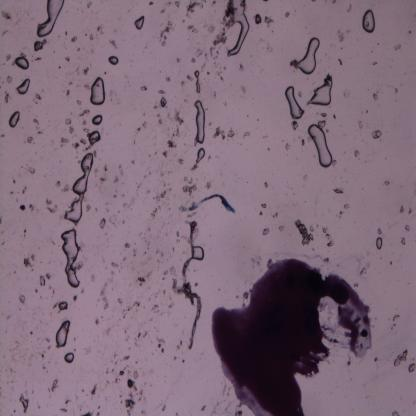Air bubble: (64, 153, 93, 223), (228, 1, 250, 57), (61, 228, 80, 288), (36, 1, 66, 39), (309, 124, 333, 168), (295, 37, 320, 74), (306, 76, 333, 106), (285, 85, 304, 120), (194, 99, 205, 144), (55, 319, 71, 348), (362, 10, 376, 34), (17, 77, 30, 95), (15, 56, 30, 70), (9, 110, 20, 128), (195, 147, 206, 164), (89, 130, 100, 146), (193, 244, 204, 260), (193, 70, 200, 94), (134, 15, 145, 30), (107, 54, 120, 66), (92, 114, 102, 126), (376, 236, 383, 251), (66, 351, 74, 364)
Background material: (294, 218, 314, 246), (201, 45, 223, 70), (90, 76, 106, 106), (120, 300, 140, 320), (184, 0, 204, 18), (212, 27, 228, 48), (321, 224, 335, 247), (392, 349, 408, 369), (223, 1, 234, 28), (158, 26, 170, 48), (149, 206, 164, 222), (18, 392, 29, 413), (33, 38, 48, 53), (260, 36, 274, 52), (102, 281, 109, 312), (137, 386, 148, 404), (212, 127, 226, 141), (124, 398, 136, 414), (46, 198, 58, 214), (126, 379, 137, 395), (173, 110, 184, 126), (183, 184, 197, 196), (156, 338, 166, 354), (336, 29, 346, 45), (161, 268, 178, 277), (391, 314, 401, 329), (154, 190, 166, 202), (135, 122, 147, 134), (50, 378, 59, 394), (342, 88, 353, 101), (264, 14, 275, 26), (1, 10, 12, 22), (96, 23, 106, 36), (23, 256, 32, 270), (167, 139, 178, 150), (136, 275, 146, 287), (371, 130, 383, 140), (38, 273, 46, 288), (158, 96, 168, 108), (332, 186, 346, 194), (187, 24, 198, 34), (226, 128, 236, 139), (104, 325, 115, 335), (78, 108, 90, 117), (142, 238, 151, 250), (239, 83, 247, 96), (59, 184, 72, 192), (122, 202, 132, 212), (194, 48, 204, 58), (151, 304, 161, 314), (407, 362, 416, 373), (73, 262, 84, 271), (290, 59, 299, 70), (51, 300, 60, 311), (137, 330, 148, 339), (58, 300, 69, 309), (135, 180, 142, 194), (45, 336, 52, 350), (117, 162, 124, 176), (353, 148, 361, 160), (253, 13, 261, 25), (90, 384, 98, 396), (292, 119, 299, 132), (110, 260, 120, 269), (109, 39, 118, 49), (317, 119, 327, 128), (112, 174, 121, 184), (241, 291, 250, 301), (216, 71, 224, 82), (174, 126, 182, 137), (189, 164, 200, 172), (161, 150, 169, 161), (60, 137, 71, 145), (84, 343, 92, 354), (19, 293, 26, 305), (132, 369, 139, 381), (71, 141, 80, 150), (336, 210, 345, 219), (262, 227, 270, 237), (372, 92, 380, 102), (205, 180, 213, 190), (182, 178, 192, 186), (186, 73, 194, 83), (5, 74, 13, 84), (174, 231, 180, 244), (83, 65, 90, 76), (99, 219, 106, 230), (110, 214, 117, 225), (206, 68, 212, 80), (104, 201, 110, 213), (26, 135, 34, 144), (164, 74, 172, 83), (394, 43, 402, 52), (359, 267, 367, 276), (208, 25, 215, 35), (124, 241, 131, 251), (28, 203, 35, 213), (21, 185, 28, 195), (271, 211, 278, 221), (82, 410, 93, 416), (338, 57, 344, 68), (4, 92, 10, 103), (19, 204, 27, 212), (82, 82, 90, 90), (176, 158, 184, 166), (242, 132, 250, 140), (392, 87, 400, 95), (54, 180, 62, 188), (159, 7, 166, 16), (156, 117, 163, 126), (404, 223, 411, 232), (65, 117, 72, 126), (122, 354, 131, 361), (383, 179, 390, 188), (86, 1, 93, 10), (359, 119, 364, 131), (90, 273, 96, 283), (390, 410, 400, 416), (6, 52, 12, 62), (94, 316, 100, 326), (238, 62, 244, 72), (260, 202, 267, 210), (85, 204, 92, 212), (347, 5, 354, 13), (45, 272, 52, 280), (32, 118, 40, 125), (112, 378, 120, 385), (80, 138, 87, 146), (200, 404, 207, 412), (35, 92, 42, 100), (29, 165, 36, 173), (129, 157, 136, 165), (285, 144, 292, 152), (99, 176, 106, 184), (373, 356, 380, 364), (71, 35, 78, 43), (1, 29, 10, 35), (89, 32, 95, 41), (64, 54, 70, 63), (233, 410, 242, 416), (59, 406, 68, 412), (176, 340, 182, 349), (117, 297, 123, 306), (132, 249, 138, 258), (174, 1, 180, 10), (300, 138, 306, 147), (103, 164, 109, 173), (33, 56, 43, 61), (93, 166, 98, 176), (75, 46, 82, 53), (76, 99, 82, 107), (65, 89, 71, 97), (35, 402, 41, 410), (82, 128, 90, 134), (22, 227, 26, 239), (30, 254, 36, 262), (344, 202, 350, 210), (399, 206, 405, 214), (64, 398, 70, 406), (372, 60, 378, 68), (38, 352, 44, 360), (278, 225, 284, 233), (180, 80, 186, 88), (264, 179, 268, 191), (122, 255, 128, 262), (104, 378, 110, 385), (69, 126, 74, 134), (401, 236, 405, 246), (140, 86, 148, 91), (74, 292, 78, 302), (284, 12, 290, 18), (332, 114, 338, 120), (0, 132, 6, 138), (8, 189, 14, 195), (210, 0, 217, 5), (259, 210, 264, 217), (161, 290, 166, 297), (145, 187, 150, 194), (320, 113, 327, 118), (147, 271, 152, 278), (191, 56, 196, 63), (12, 178, 17, 185), (82, 119, 87, 126), (29, 329, 34, 336), (173, 355, 178, 362), (80, 286, 84, 294), (298, 90, 302, 98), (93, 150, 97, 158), (172, 244, 176, 252), (118, 398, 122, 406), (378, 228, 382, 236), (34, 287, 38, 295), (176, 58, 181, 64), (68, 80, 73, 86), (118, 392, 123, 398), (324, 257, 330, 262), (121, 218, 126, 224), (37, 130, 43, 135), (142, 174, 148, 179), (119, 370, 124, 376), (160, 171, 165, 177), (409, 208, 413, 215), (158, 90, 165, 94), (125, 335, 129, 342), (133, 139, 137, 146), (162, 405, 166, 412), (57, 65, 62, 70), (174, 411, 179, 416), (156, 113, 161, 118), (113, 193, 118, 198), (47, 284, 52, 289), (148, 1, 154, 5), (52, 288, 56, 294), (163, 180, 166, 188), (72, 346, 76, 352), (42, 364, 46, 370), (124, 328, 128, 334), (365, 108, 369, 113), (96, 411, 100, 416), (80, 388, 85, 392), (389, 261, 393, 266), (149, 170, 152, 176), (13, 408, 16, 414), (31, 388, 34, 394), (65, 30, 68, 36), (13, 271, 19, 274), (262, 0, 270, 2), (194, 282, 198, 286), (148, 154, 152, 158), (94, 208, 98, 212), (121, 194, 125, 198), (74, 335, 76, 342), (106, 368, 108, 375), (116, 210, 120, 213), (182, 359, 185, 363), (154, 106, 157, 110), (154, 151, 157, 155), (46, 370, 48, 374), (98, 407, 100, 409), (272, 31, 274, 33)
Cellulose filter fibre: (181, 222, 202, 350), (171, 278, 196, 304)
Cotton: (180, 193, 236, 215)
Pen: (209, 257, 372, 415)
